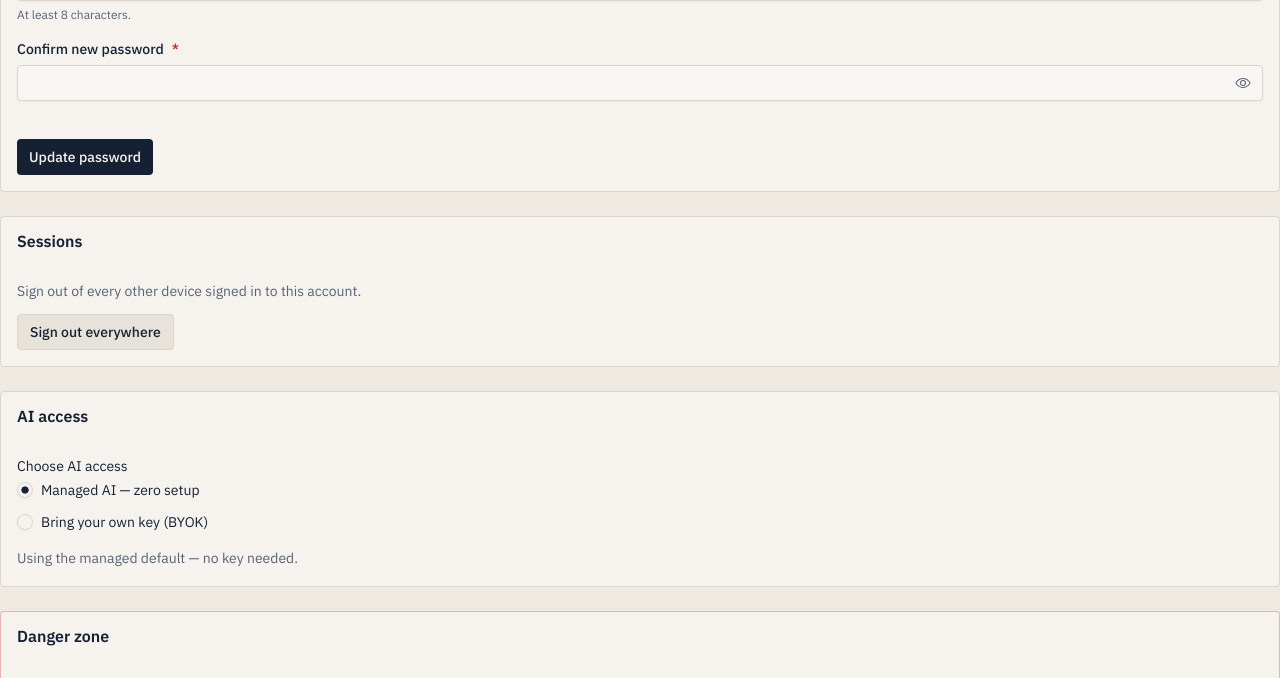
Test: SettingsPanel › sign out everywhere › regression: a failed sign-out-everywhere must surface a Banner — this used to fail completely silently
The image size is (1280, 678).
(page scrolled)
Click the button "Sign out everywhere": (95, 332) x1=17 y1=314 x2=174 y2=350
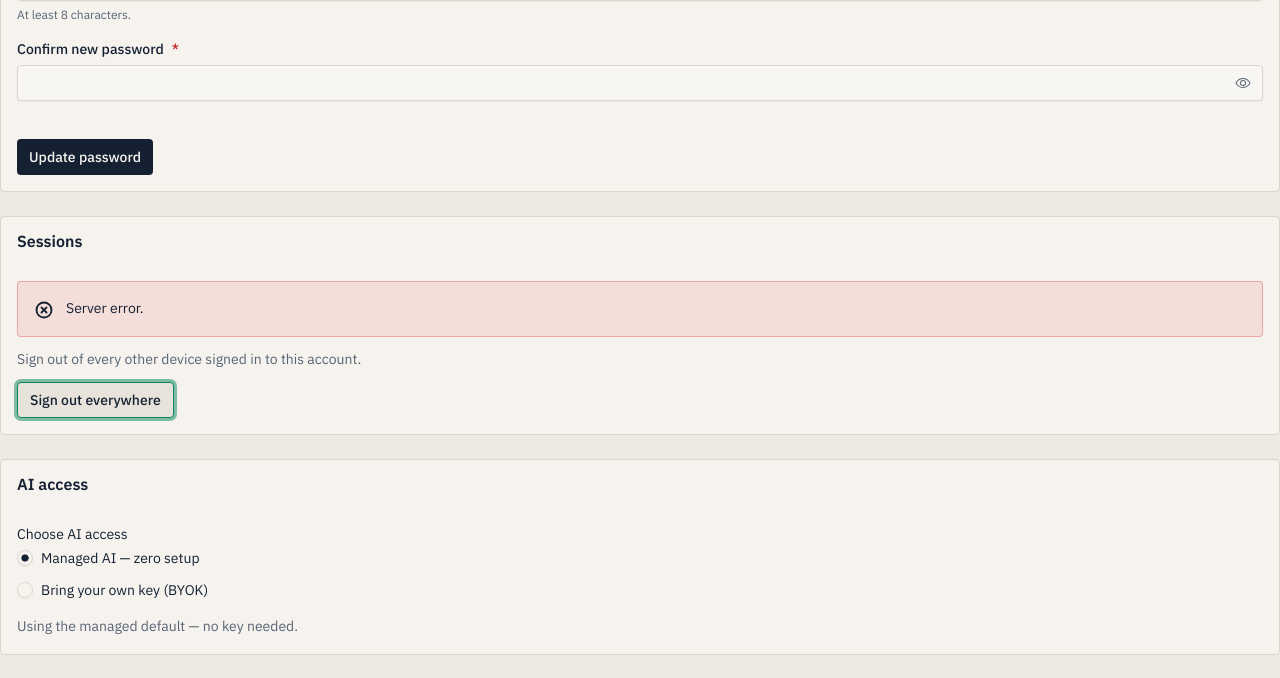
Expected: the message reads "Server error.", x1=66 y1=299 x2=144 y2=317
